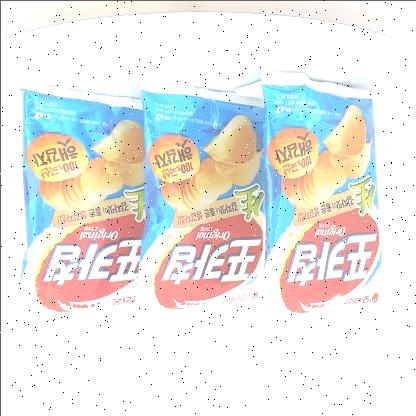Others: (9, 63, 394, 349)
